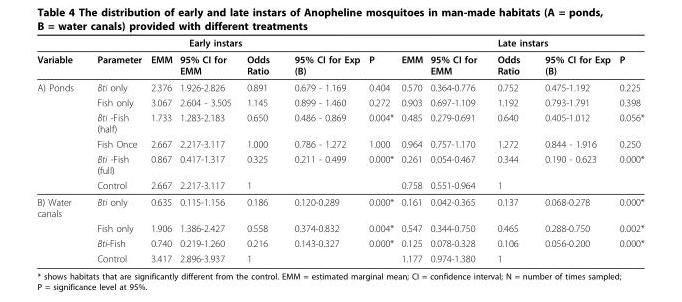table: (36, 36, 643, 263)
table column: (531, 36, 614, 263), (281, 36, 363, 263), (175, 36, 238, 263), (84, 36, 145, 263), (425, 36, 486, 263), (36, 36, 84, 263), (486, 36, 531, 263), (238, 36, 281, 263), (363, 36, 396, 263), (145, 36, 175, 263), (396, 36, 425, 263), (614, 36, 643, 263)
table column header: (36, 36, 643, 78)
table row: (36, 50, 643, 78), (36, 109, 643, 136), (36, 193, 643, 220), (36, 151, 643, 177), (36, 78, 643, 94), (36, 177, 643, 193), (36, 94, 643, 109), (36, 136, 643, 151), (36, 220, 643, 235), (36, 235, 643, 250), (36, 36, 643, 50), (36, 250, 643, 263)
table spanning cell: (36, 78, 84, 193), (36, 36, 396, 50), (396, 36, 643, 50), (36, 193, 84, 263)
